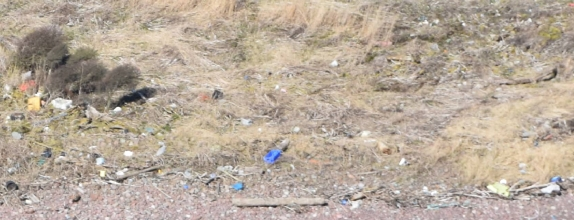scattered_barrel: (227, 142, 286, 196)
straight_bar: (225, 189, 332, 220)
together_barrel: (2, 63, 166, 220), (337, 160, 574, 220)
